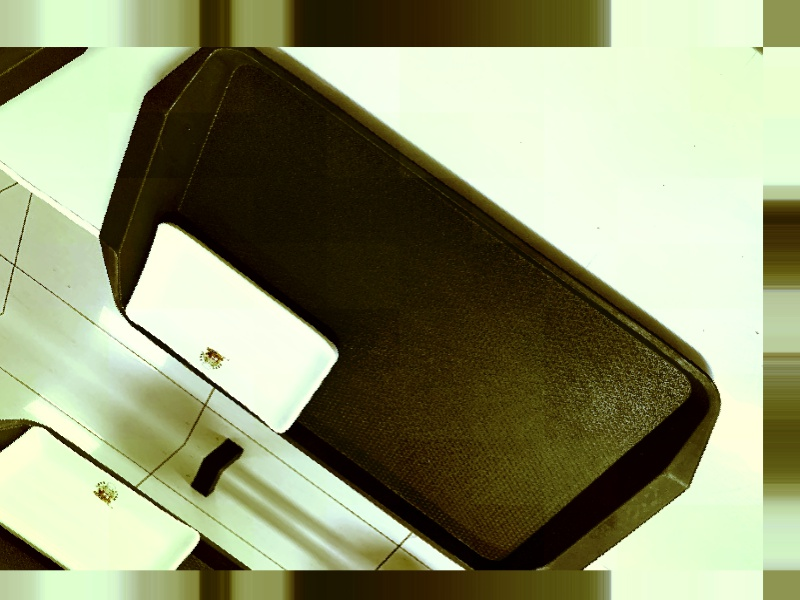dish4: (87, 204, 364, 446)
